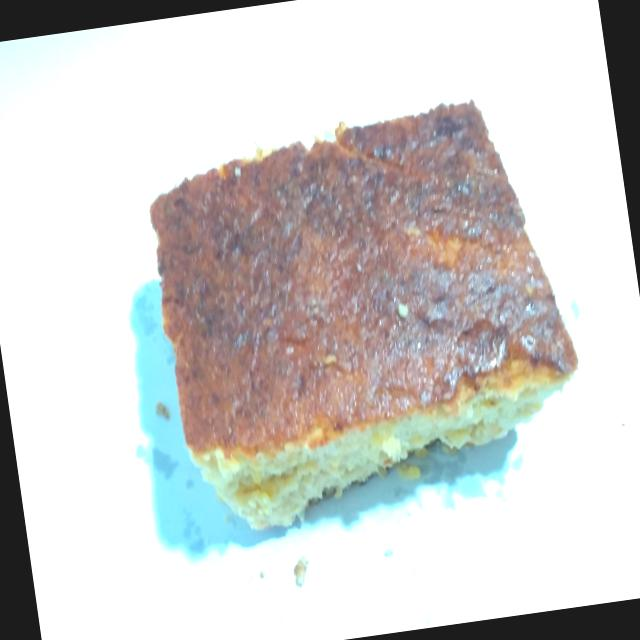Chipa_Guazu: (128, 64, 604, 558)
